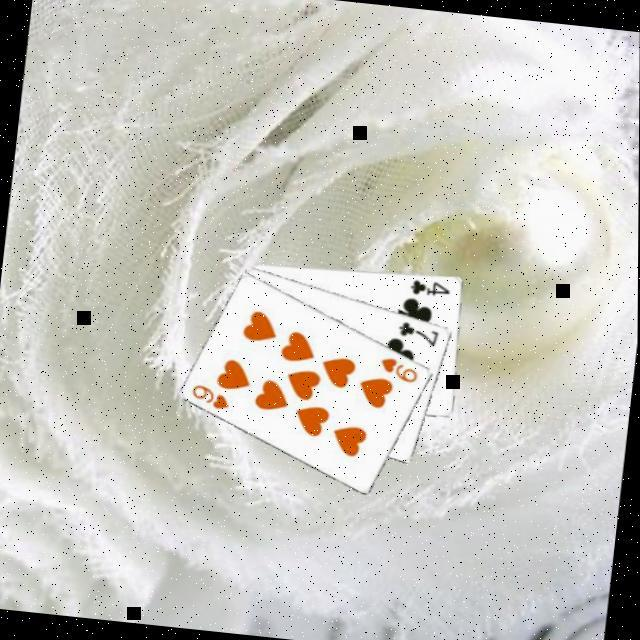4C: (408, 277, 456, 302)
7C: (396, 319, 445, 352)
9H: (378, 356, 425, 388), (189, 383, 236, 415)
